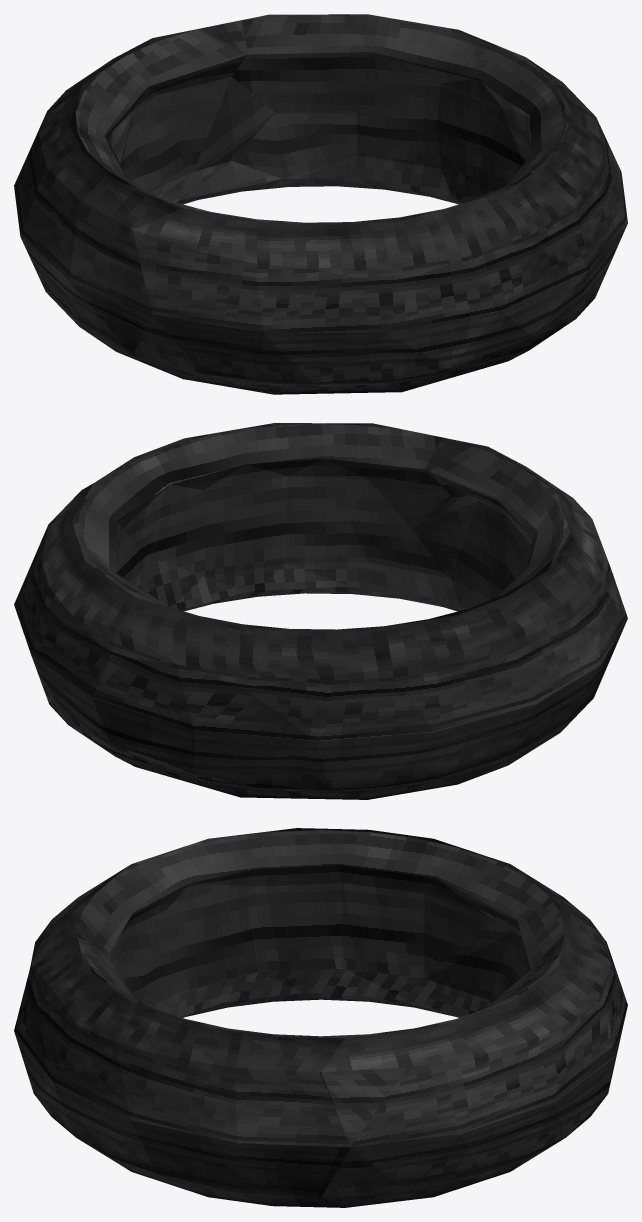
Rendered from Tire.glb.
3 views of the same model, one above another, from view 1: azimuth 30°, elevation 25°; view 2: azimuth 150°, elevation 25°; view 3: azimuth 270°, elevation 25° (orthographic).
Parts seen in each view (by area): view 1: Cylinder; view 2: Cylinder; view 3: Cylinder.
Boxes of the visible parts, x1,y1,x2,y2 form: Cylinder: [14, 14, 627, 394]; Cylinder: [14, 423, 627, 799]; Cylinder: [14, 828, 627, 1207].
Size of the model in its own units: 1.82 by 0.5573 by 1.83.
1 material, 1 textured.
